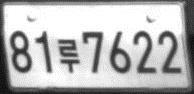1: (33, 30, 53, 74)
2: (132, 28, 156, 75), (158, 29, 182, 74)
6: (108, 30, 133, 74)
7: (81, 30, 104, 75)
8: (9, 30, 33, 72)
루: (56, 37, 81, 74)
